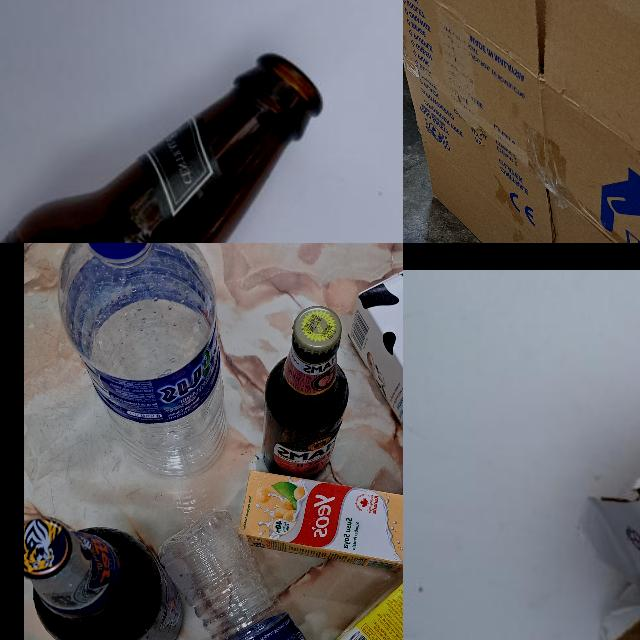caixinha: (238, 465, 403, 566), (352, 254, 403, 566), (329, 534, 403, 640)
garrafa de vidro: (0, 48, 325, 243), (24, 513, 183, 640), (255, 305, 352, 479)
garrafa plástica: (52, 243, 224, 479), (155, 507, 344, 640)
papelão: (403, 0, 640, 243)
